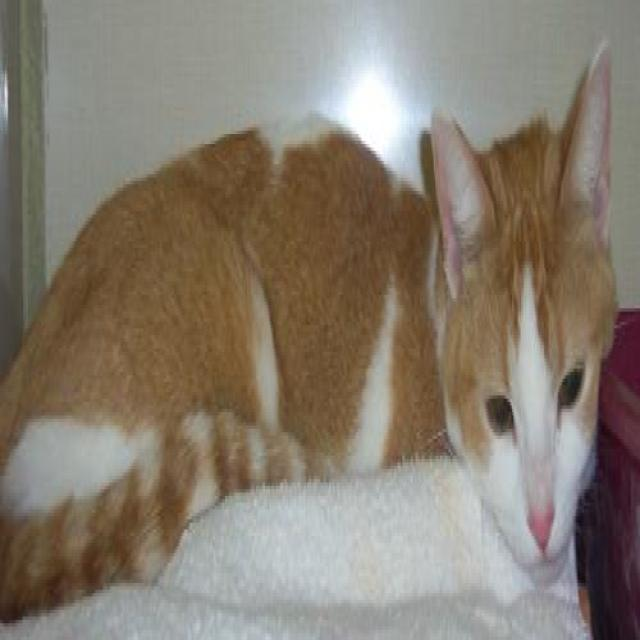Cats: (0, 33, 617, 620)
